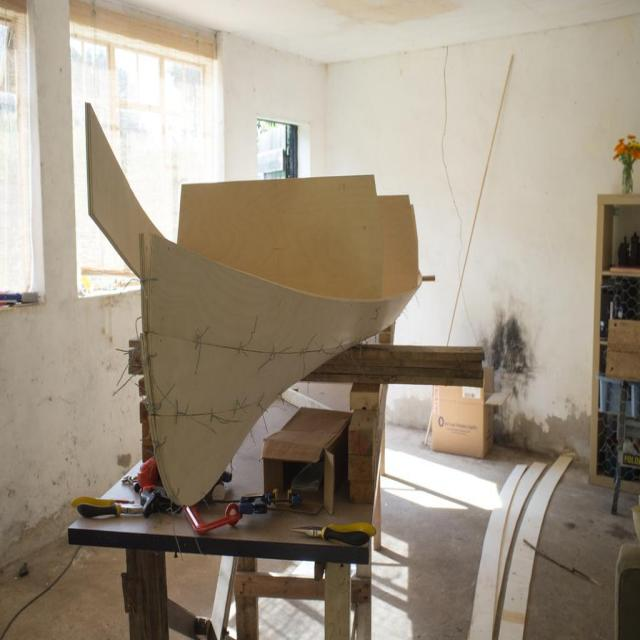table: (66, 467, 402, 630)
